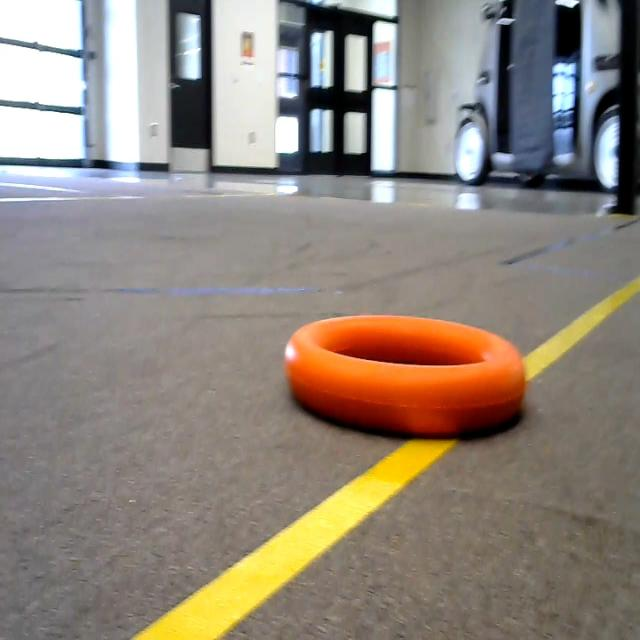note: (272, 298, 541, 442)
